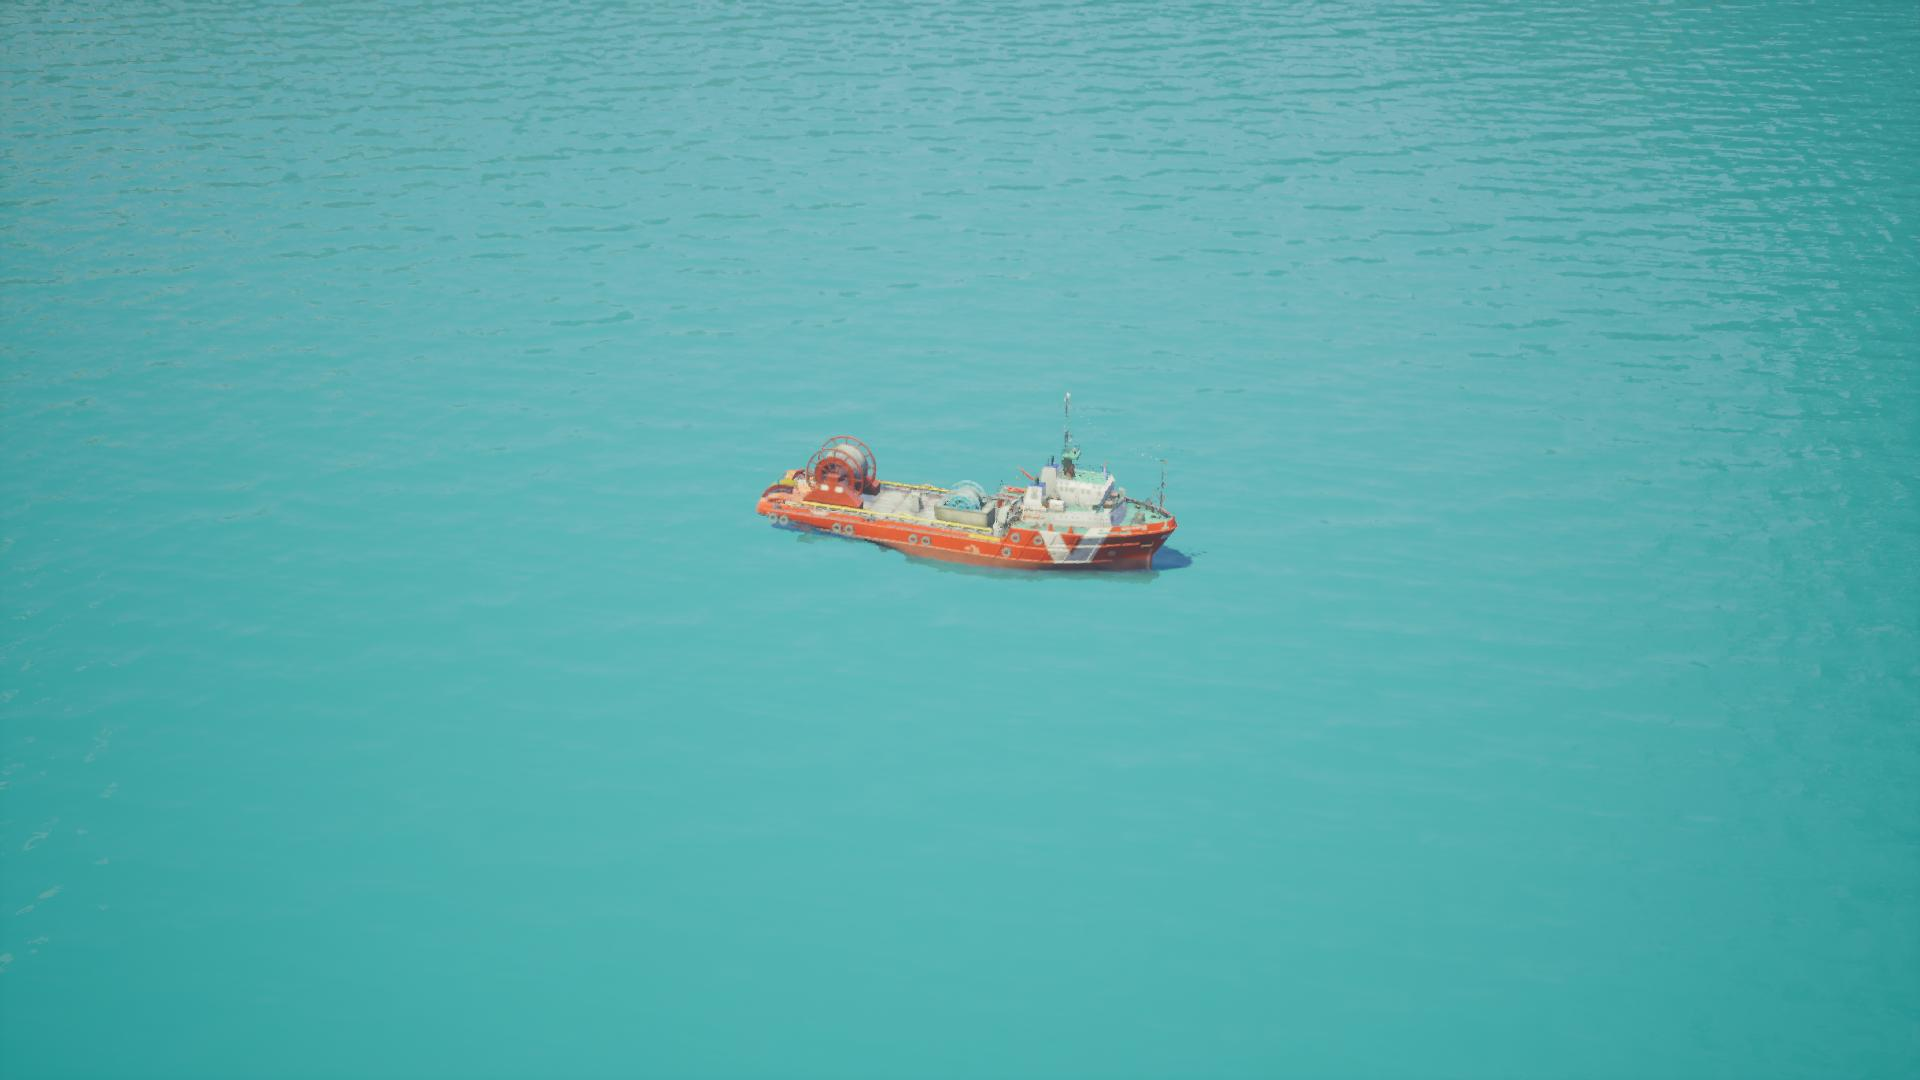Tug Boat: (760, 391, 1184, 574)
